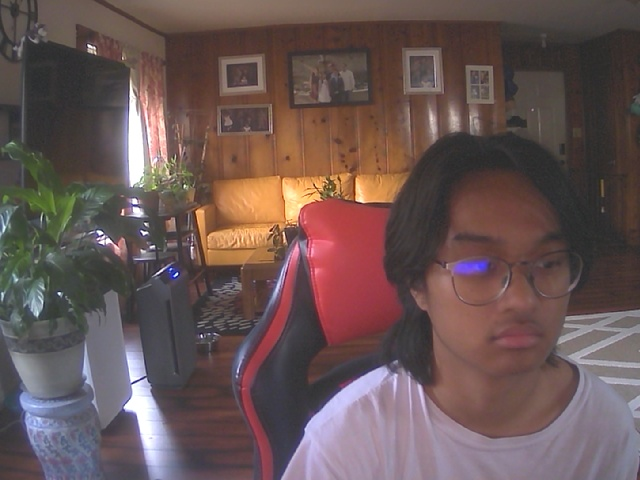neutral: (403, 154, 589, 385)
